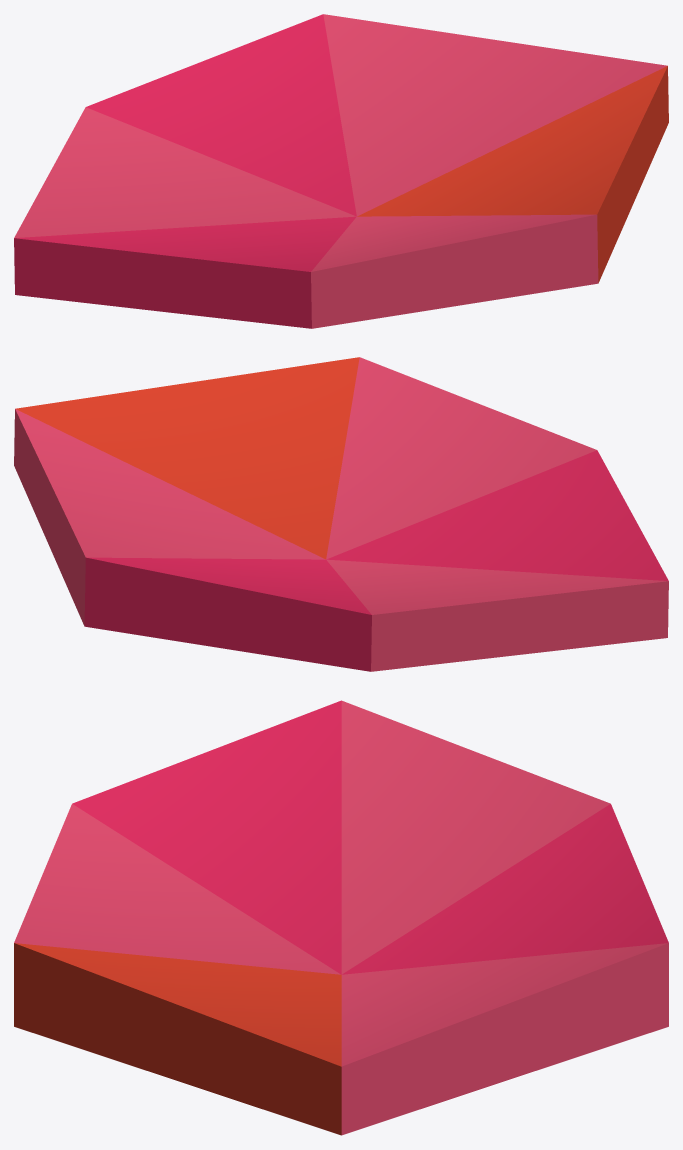
File: Red_Leaf.fbx
The picture shows the model from 3 angles, top to bottom: view 1: azimuth 30°, elevation 25°; view 2: azimuth 150°, elevation 25°; view 3: azimuth 270°, elevation 25°; orthographic projection. The views are drawn at different scales.
Visible parts, largest first — view 1: pCylinder3; view 2: pCylinder3; view 3: pCylinder3.
Part boxes in pixels (<box>): pCylinder3: <box>14,14,668,328</box>; pCylinder3: <box>14,357,668,671</box>; pCylinder3: <box>14,700,668,1135</box>.
Bounding box in the file's own units: 107 × 21.02 × 77.82.
